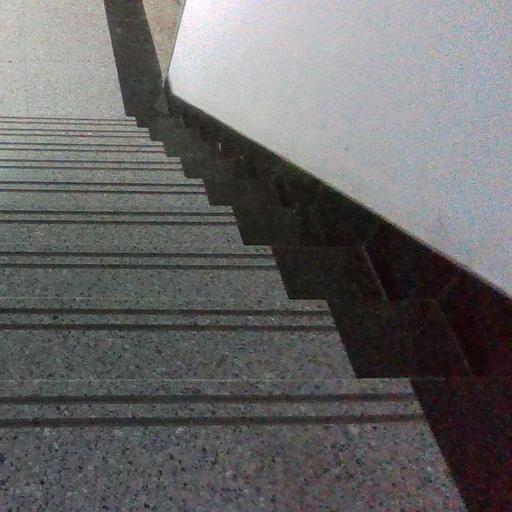stairs: (0, 118, 463, 511)
